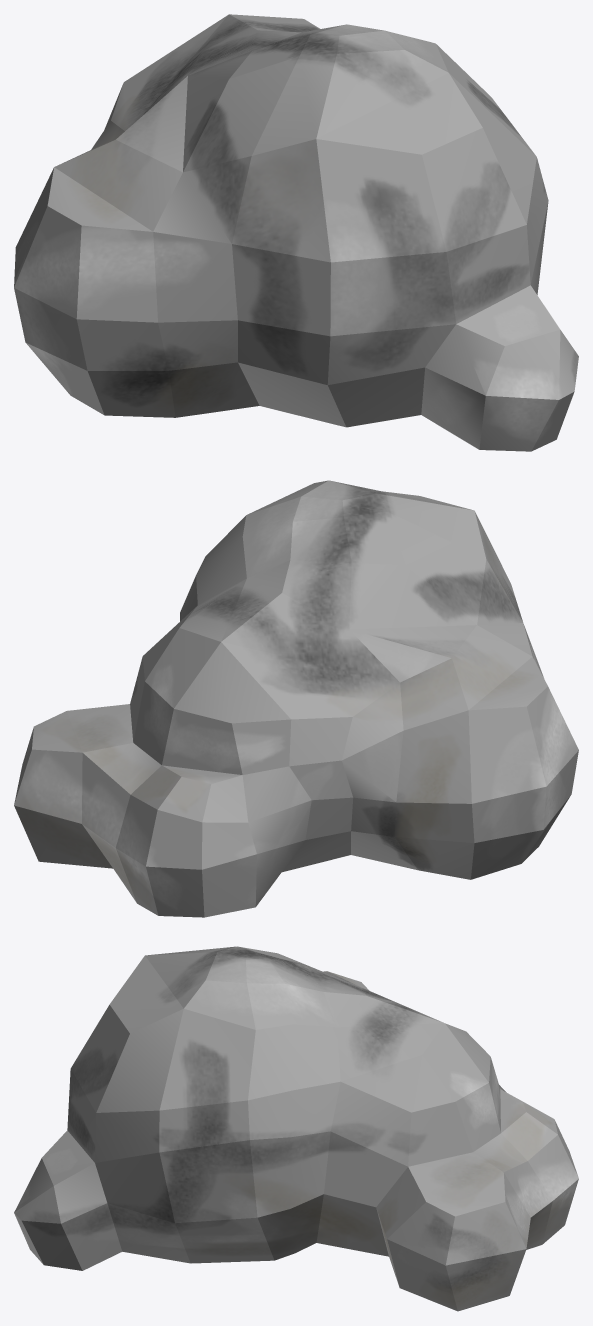
The model's file is Stone2.fbx.
3 renders of one model, top to bottom at view 1: azimuth 30°, elevation 25°; view 2: azimuth 150°, elevation 25°; view 3: azimuth 270°, elevation 25°, orthographic. The views are drawn at different scales.
Visible parts, largest first — view 1: Stone2; view 2: Stone2; view 3: Stone2.
Boxes of the visible parts, x1,y1,x2,y2 form: Stone2: (14, 14, 578, 451); Stone2: (14, 480, 578, 917); Stone2: (14, 946, 578, 1311).
Size of the model in its own units: 3.53 by 2.22 by 4.17.
